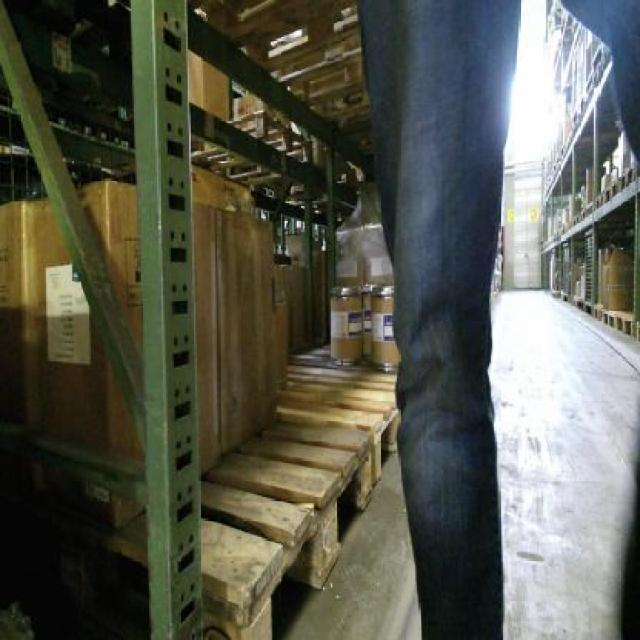ground: (490, 288, 638, 638)
pallet: (196, 357, 400, 638), (209, 10, 373, 185), (539, 36, 614, 205), (573, 159, 638, 226), (586, 299, 638, 343)
